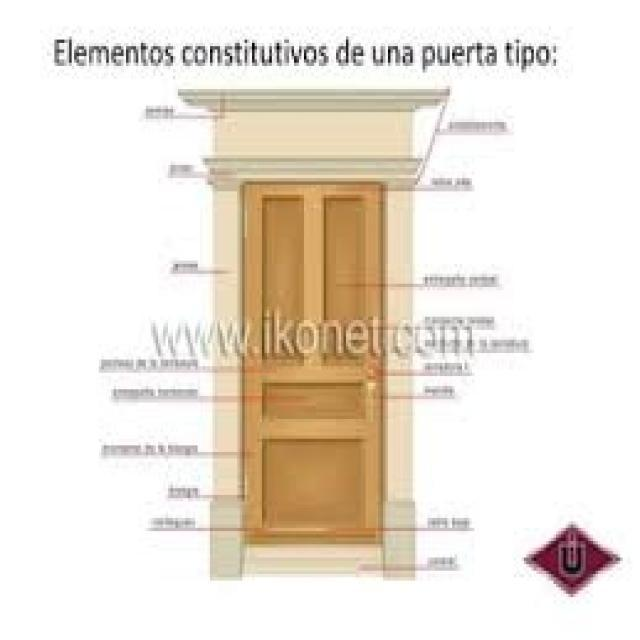door: (241, 180, 387, 562)
